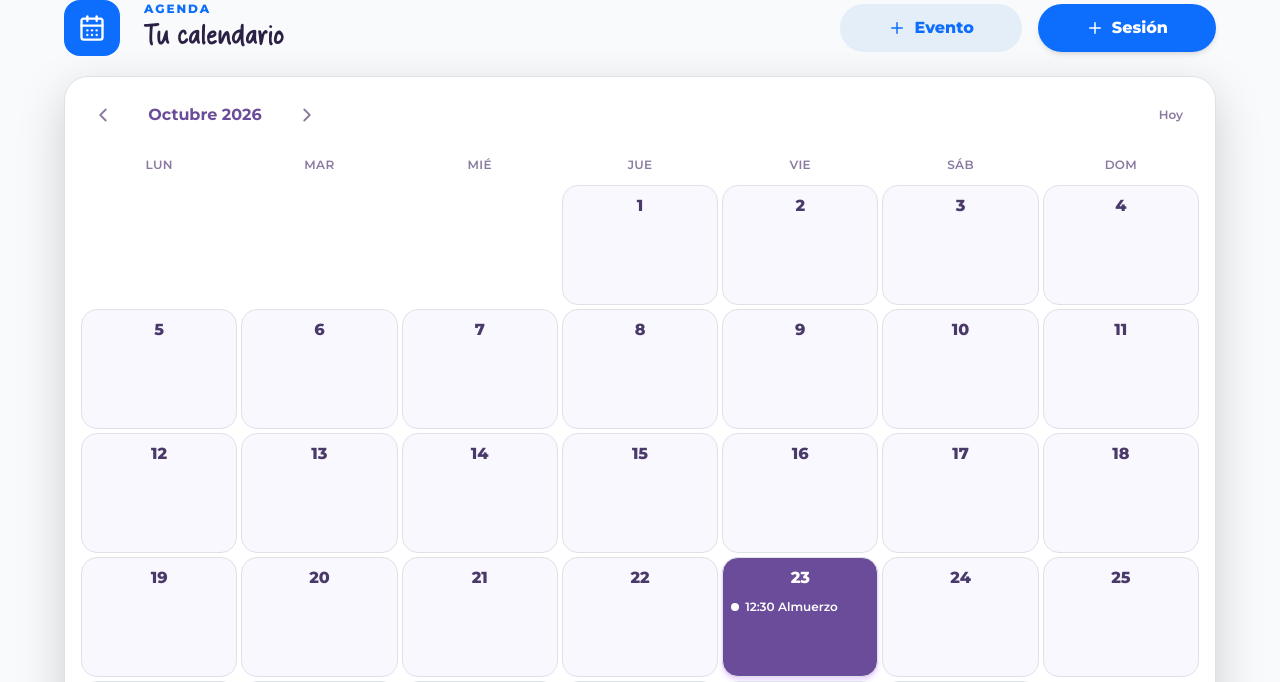
Test case: ProfessionalCalendar › con 4 pacientes o menos muestra todos los chips y no 'Ver más'
What coordinates should you click on to do the following:
click the button "Sesión"
I would click on:
 (1127, 28)
Its box is top-left (1038, 4), bottom-right (1216, 52).
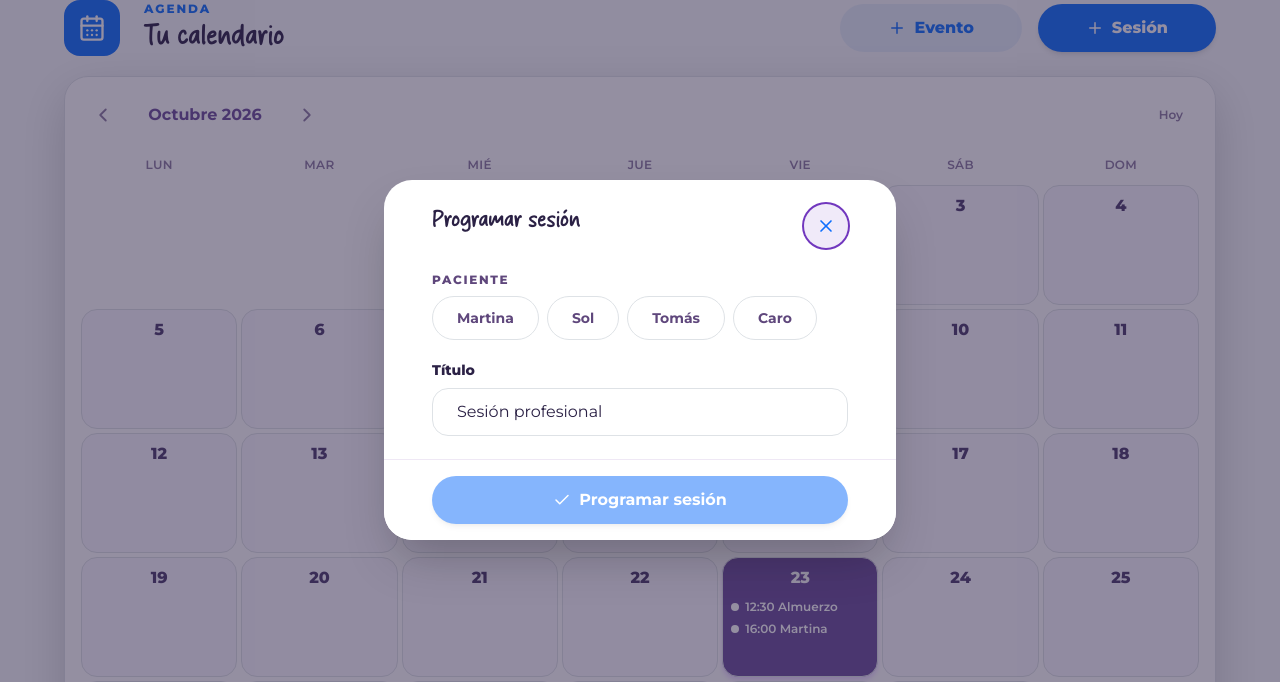
Expected: the button "Martina" is shown, top-left (432, 296), bottom-right (539, 340)
Expected: the button "Sol" is shown, top-left (547, 296), bottom-right (619, 340)
Expected: the button "Tomás" is shown, top-left (627, 296), bottom-right (725, 340)
